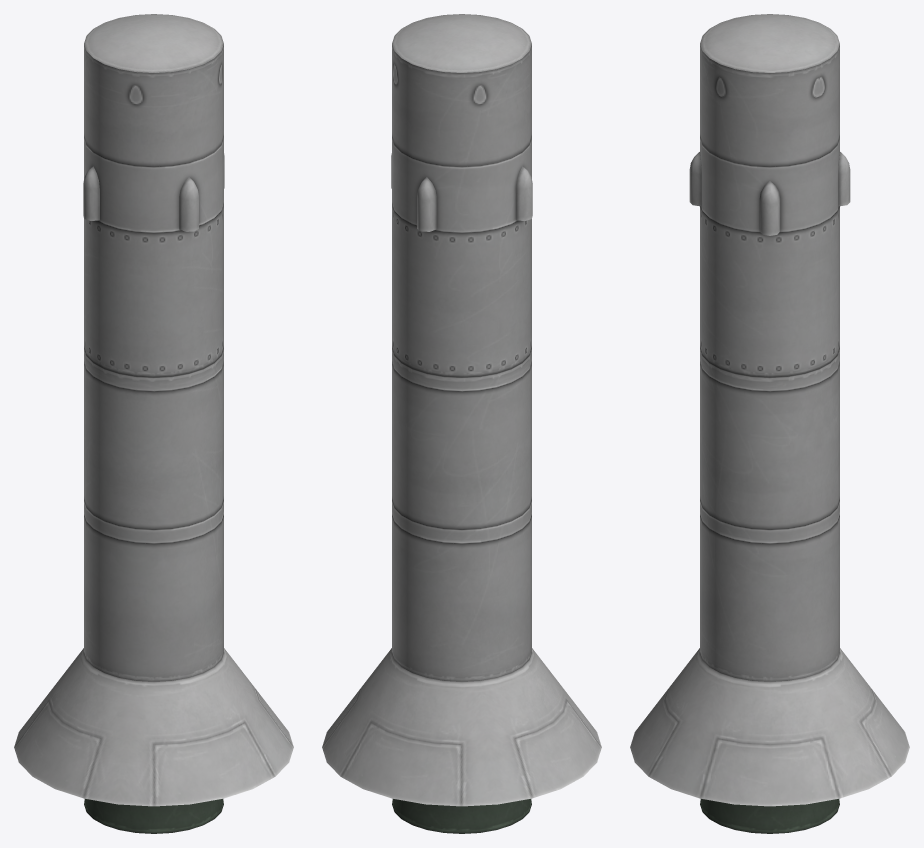
Rendered from alnair_les_s0_2_compact.obj.
3 views of the same model, side by side, from view 1: azimuth 30°, elevation 25°; view 2: azimuth 150°, elevation 25°; view 3: azimuth 270°, elevation 25° (orthographic).
Parts seen in each view (by area): view 1: mesh1; view 2: mesh1; view 3: mesh1.
Boxes of the visible parts, left/top/right/bottom form: mesh1: left=14, top=14, right=293, bottom=833; mesh1: left=322, top=14, right=601, bottom=833; mesh1: left=630, top=14, right=909, bottom=833.
Bounding box in the file's own units: 1 × 3.05 × 1.
1 material, 1 textured.
